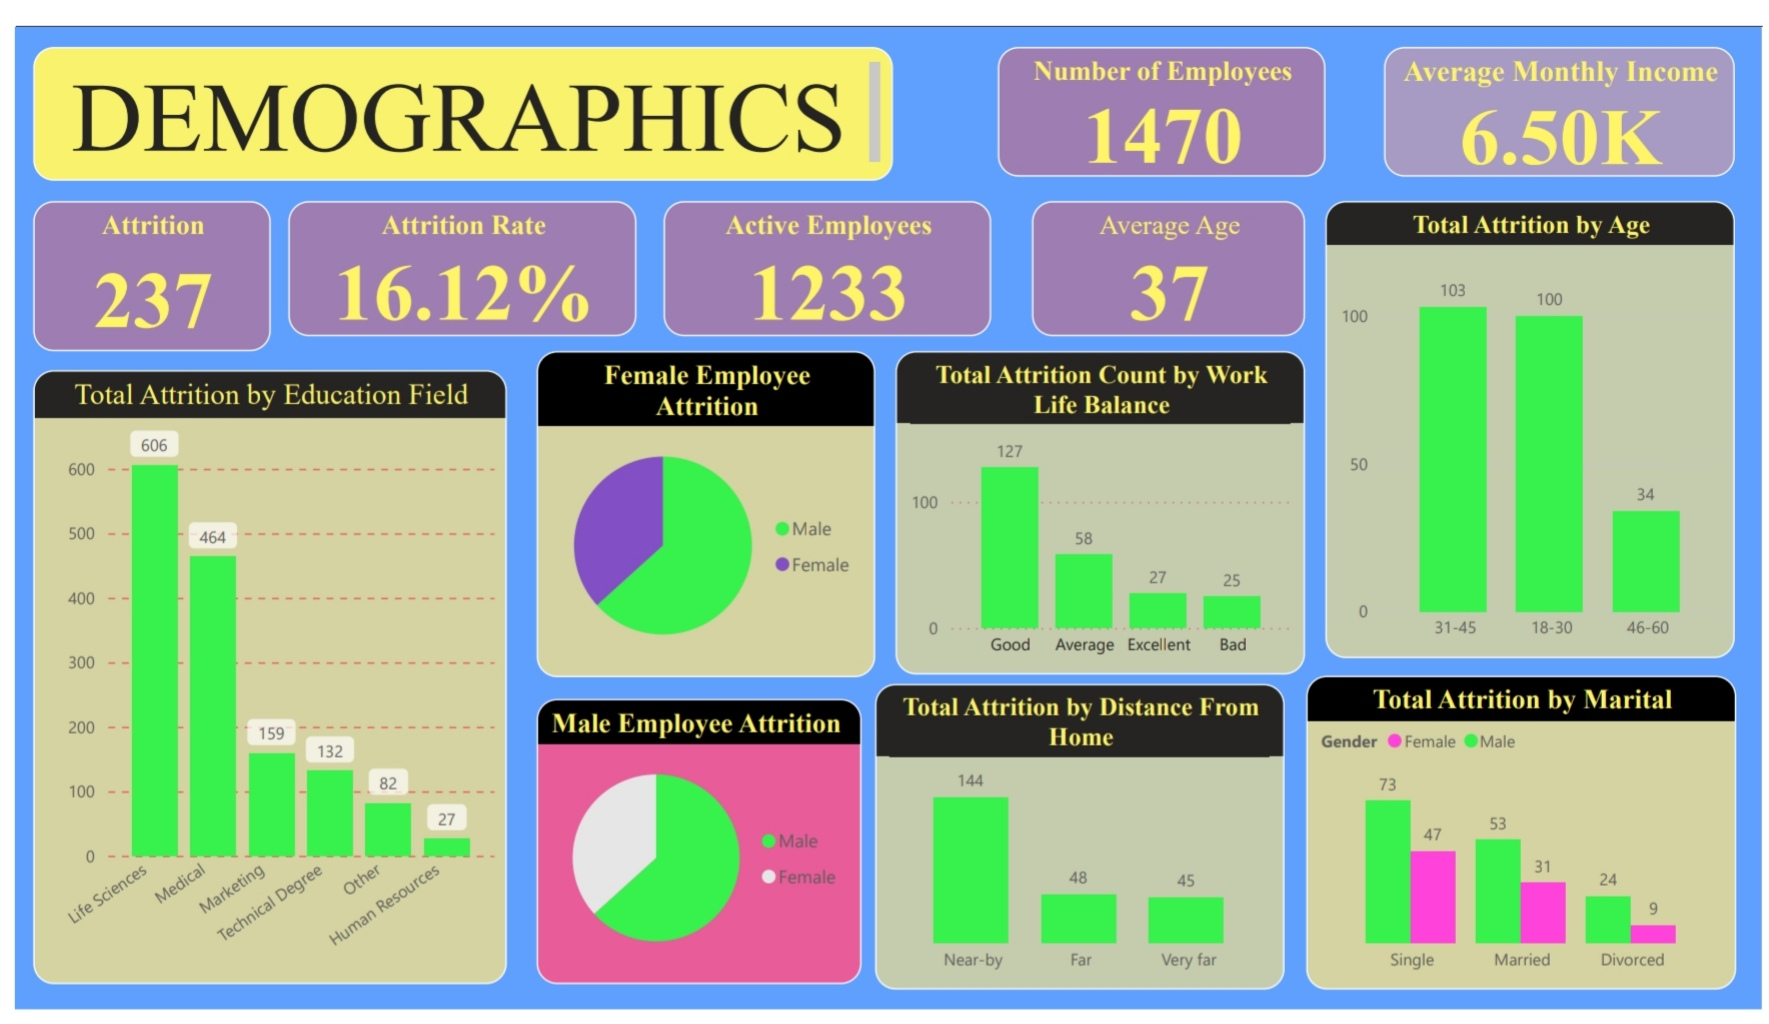

The dashboard page shown, as its layout file describes it:
{"tool":"powerbi","page":{"name":"HR Attrition analysis page 1","canvas":[1280,720],"ordinal":0},"visuals":[{"type":"card","title":"Number of Employees","fields":{"Values":["Sum(HR-Employee-Attrition.EmployeeCount)"]},"box":[720,15,240,95],"z":0},{"type":"card","title":"Attrition","fields":{"Values":["Sum(HR-Employee-Attrition.Attrition Count)"]},"box":[13.3,128.3,173.3,110],"z":1000},{"type":"card","title":"Attrition Rate","fields":{"Values":["HR-Employee-Attrition.Attrition Rate"]},"box":[200,128.3,255,98.3],"z":2000},{"type":"card","title":"Active Employees","fields":{"Values":["HR-Employee-Attrition.Active Employees"]},"box":[475,128.3,240,98.3],"z":3000},{"type":"card","title":"Average Age","fields":{"Values":["Avg(HR-Employee-Attrition.Age)"]},"box":[745,128.3,200,98.3],"z":4000},{"type":"clusteredColumnChart","title":"Total Attrition Count by Work Life Balance","fields":{"Category":["HR-Employee-Attrition.Work_life_balance"],"Y":["Sum(HR-Employee-Attrition.Attrition Count)"]},"box":[645,238.3,300,236.7],"z":5000},{"type":"clusteredColumnChart","title":"Total Attrition by Distance From Home","fields":{"Category":["HR-Employee-Attrition.DistanceFromHome (groups)"],"Y":["Sum(HR-Employee-Attrition.Attrition Count)"]},"box":[630.4,481.7,300,224.3],"z":6000},{"type":"columnChart","title":"Total Attrition by Age","fields":{"Y":["Sum(HR-Employee-Attrition.Attrition Count)"],"Category":["HR-Employee-Attrition.Age (groups)"]},"box":[960,128.3,300,335],"z":7000},{"type":"pieChart","title":"Male Employee Attrition","fields":{"Category":["HR-Employee-Attrition.Gender"],"Y":["Sum(HR-Employee-Attrition.Attrition Count)"]},"box":[381.7,493.3,238.3,208.3],"z":8000},{"type":"lineClusteredColumnComboChart","title":"Total Attrition by Education Field","fields":{"Category":["HR-Employee-Attrition.EducationField"],"Y":["Sum(HR-Employee-Attrition.EmployeeCount)"]},"box":[13.3,251.7,346.7,450],"z":9000},{"type":"clusteredColumnChart","title":"Total Attrition by Marital","fields":{"Category":["HR-Employee-Attrition.MaritalStatus"],"Series":["HR-Employee-Attrition.Gender"],"Y":["Sum(HR-Employee-Attrition.Attrition Count)"]},"box":[945.5,476.2,315.2,229.8],"z":10000},{"type":"textbox","box":[13.3,15,630,98.3],"z":11000},{"type":"textbox","box":[475,361.7,58.3,41.7],"z":12000},{"type":"pieChart","title":"Female Employee Attrition","fields":{"Y":["Sum(HR-Employee-Attrition.Attrition Count)"],"Category":["HR-Employee-Attrition.Gender"]},"box":[381.7,238.3,248.3,238.3],"z":13000},{"type":"card","title":"Average Monthly Income","fields":{"Values":["Avg(HR-Employee-Attrition.MonthlyIncome)"]},"box":[1003.3,15,256.7,95],"z":13001}]}

Visuals, with their boxes in screenshot pixels (x1, y1, x2, y2), scaled from the page's 1280x720 canvas onto the 1769x1024 screenshot:
"Number of Employees" card: (x1=995, y1=21, x2=1327, y2=156)
"Attrition" card: (x1=18, y1=182, x2=258, y2=339)
"Attrition Rate" card: (x1=276, y1=182, x2=629, y2=322)
"Active Employees" card: (x1=656, y1=182, x2=988, y2=322)
"Average Age" card: (x1=1030, y1=182, x2=1306, y2=322)
"Total Attrition Count by Work Life Balance" clusteredColumnChart: (x1=891, y1=339, x2=1306, y2=676)
"Total Attrition by Distance From Home" clusteredColumnChart: (x1=871, y1=685, x2=1286, y2=1004)
"Total Attrition by Age" columnChart: (x1=1327, y1=182, x2=1741, y2=659)
"Male Employee Attrition" pieChart: (x1=528, y1=702, x2=857, y2=998)
"Total Attrition by Education Field" lineClusteredColumnComboChart: (x1=18, y1=358, x2=498, y2=998)
"Total Attrition by Marital" clusteredColumnChart: (x1=1307, y1=677, x2=1742, y2=1004)
textbox: (x1=18, y1=21, x2=889, y2=161)
textbox: (x1=656, y1=514, x2=737, y2=574)
"Female Employee Attrition" pieChart: (x1=528, y1=339, x2=871, y2=678)
"Average Monthly Income" card: (x1=1387, y1=21, x2=1741, y2=156)
